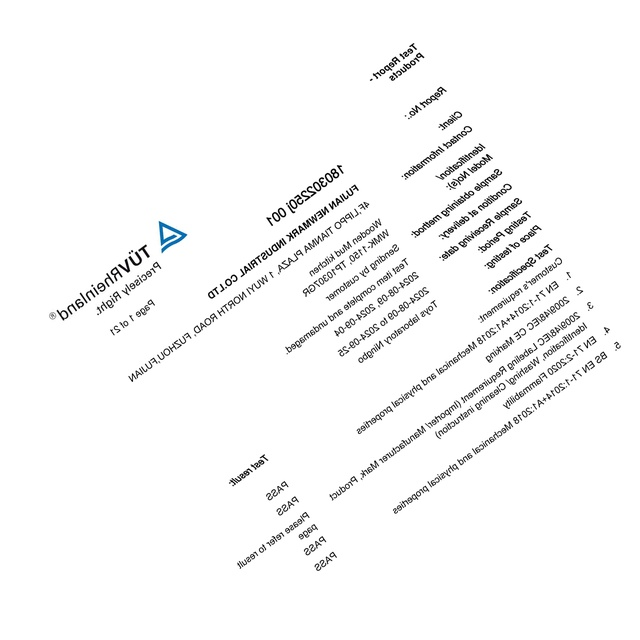tuv_rheinland: (47, 216, 189, 326)
